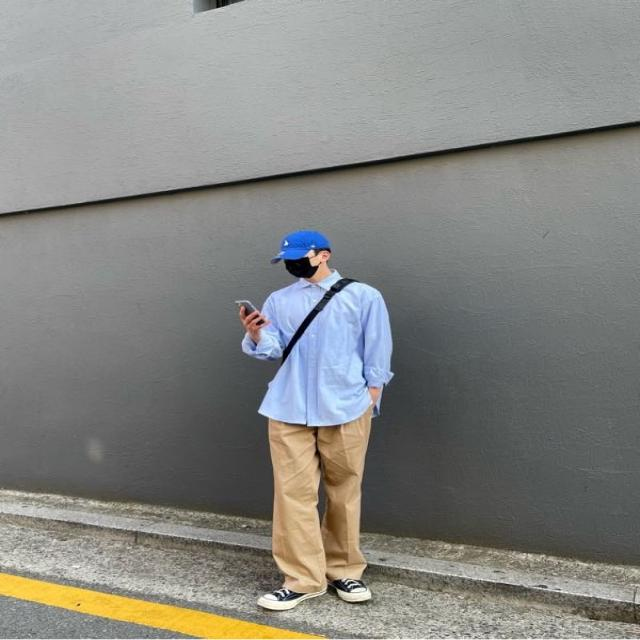cottonpants: (266, 404, 374, 598)
shirt: (240, 272, 394, 433)
